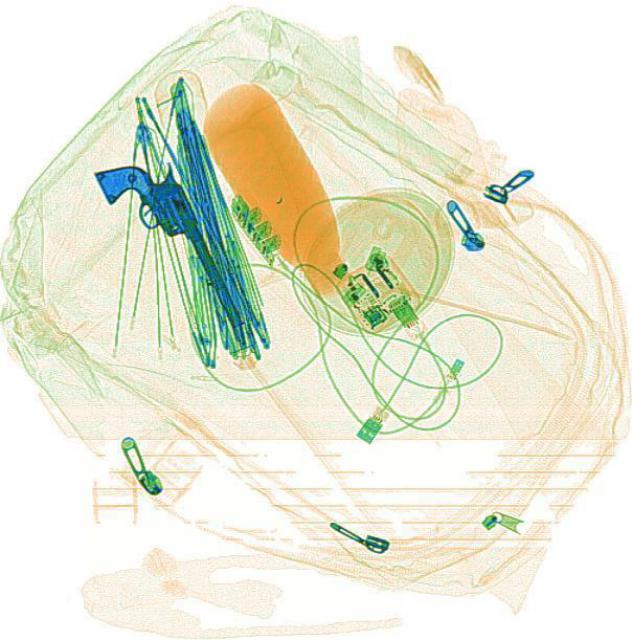Gun: (90, 144, 245, 350)
